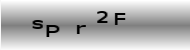2: (95, 10, 109, 23)
F: (113, 12, 126, 25)
P: (45, 24, 59, 38)
r: (75, 23, 87, 35)
s: (31, 19, 43, 29)
